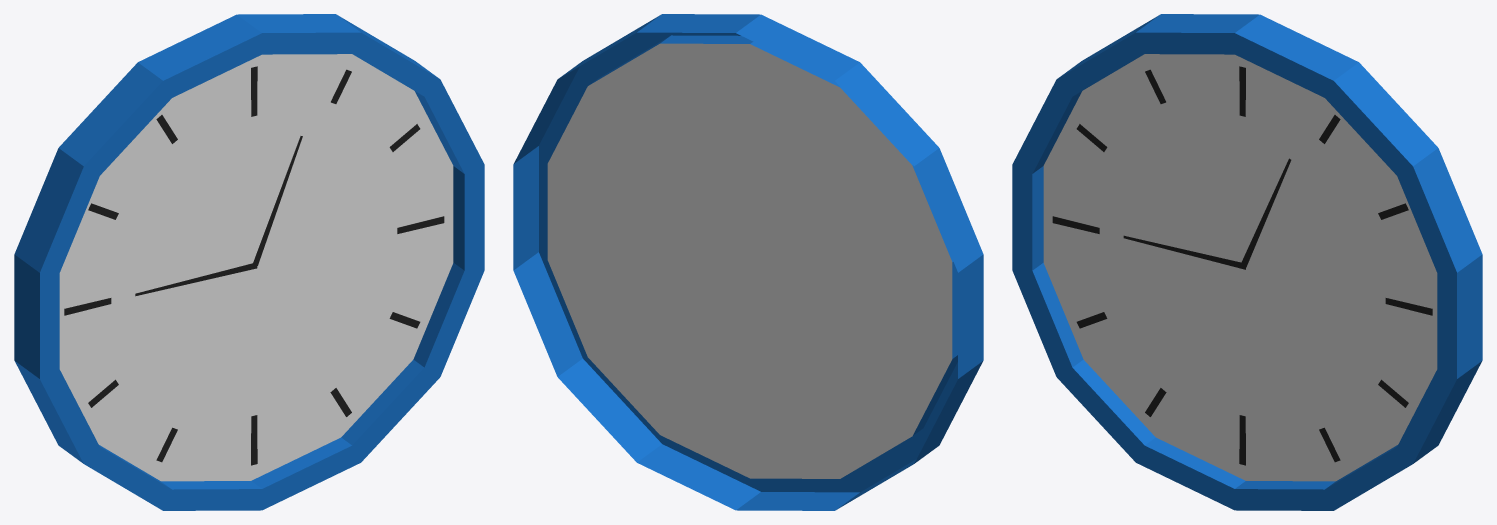
Rendered from Clock.fbx.
3 views of the same model, side by side, from view 1: azimuth 30°, elevation 25°; view 2: azimuth 150°, elevation 25°; view 3: azimuth 330°, elevation 25° (orthographic).
Visible parts, largest first — view 1: Clock; view 2: Clock; view 3: Clock.
Part boxes in pixels (x1=…): Clock: x1=14, y1=14, x2=484, y2=510; Clock: x1=513, y1=14, x2=983, y2=510; Clock: x1=1012, y1=14, x2=1482, y2=510.
Size of the model in its own units: 57.24 by 58.71 by 5.66.
